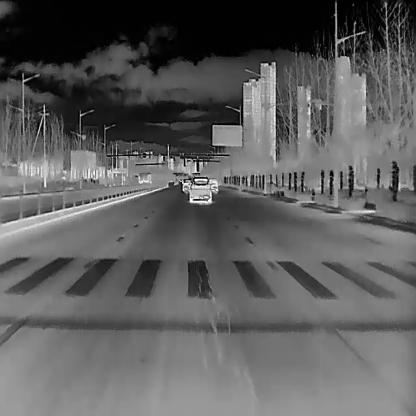bus: (138, 170, 151, 184)
car: (188, 176, 210, 202), (181, 177, 192, 192), (209, 176, 217, 192)
